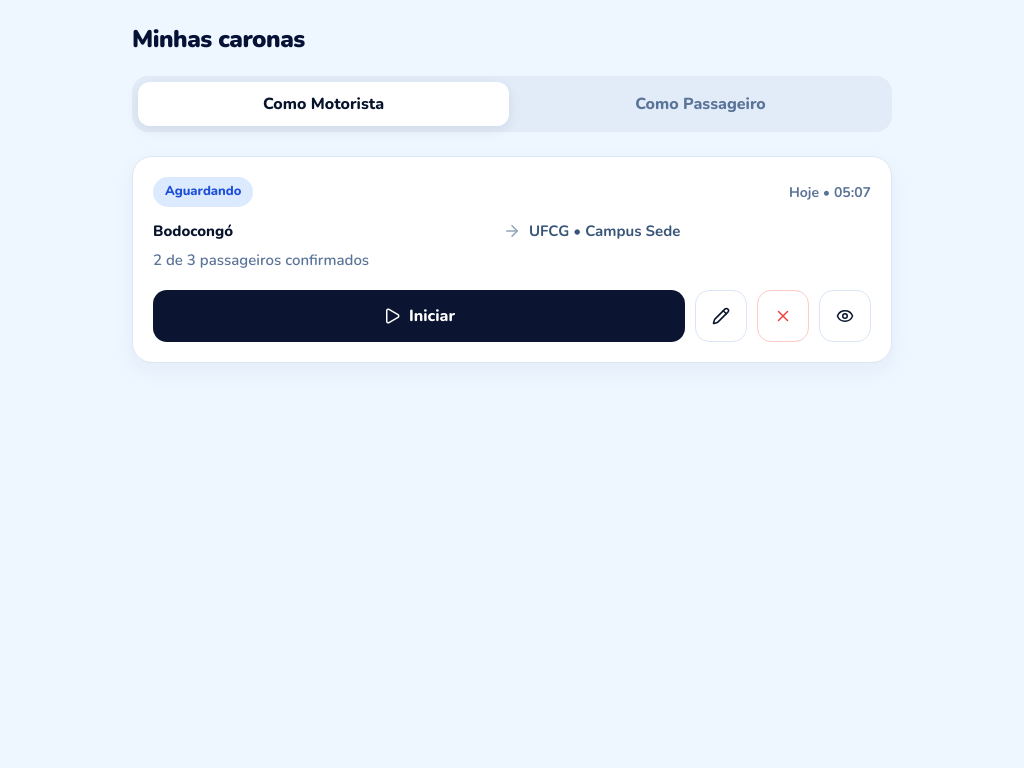
Test case: cancelamento › confirma o cancelamento, atualiza o status e exibe feedback de sucesso
This screenshot has width=1024, height=768.
Click the button named "cancelar carona" at (783, 316), box [757,290,809,342]
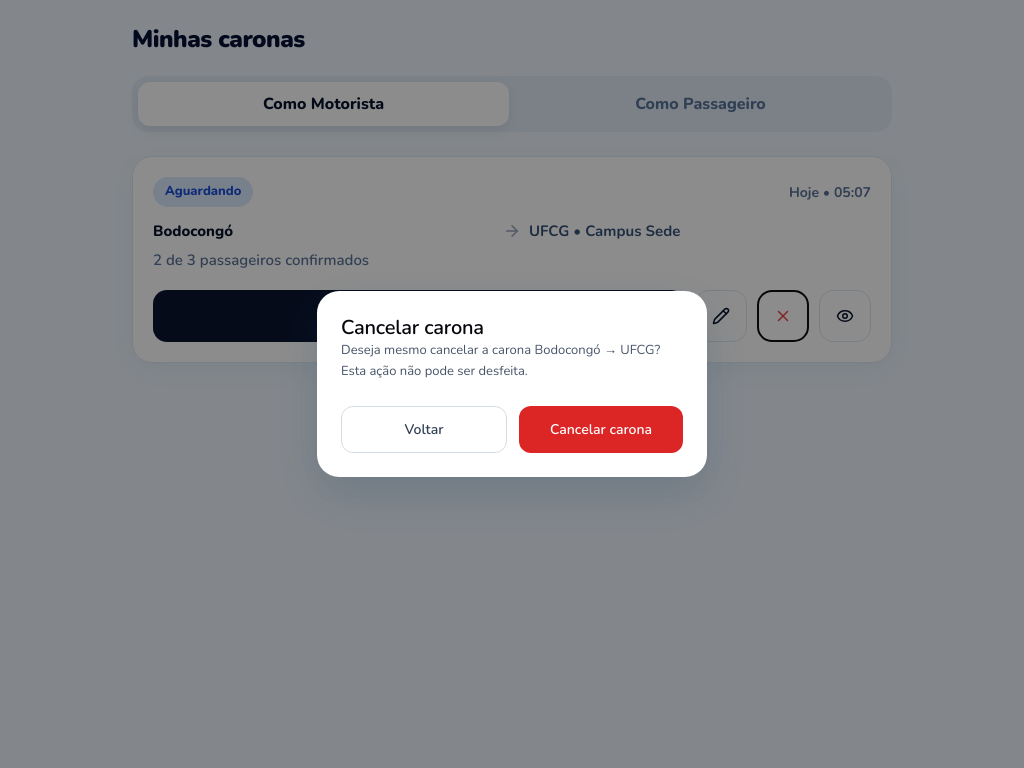
Click the button "Cancelar carona" at (601, 429), box [519,406,683,453]
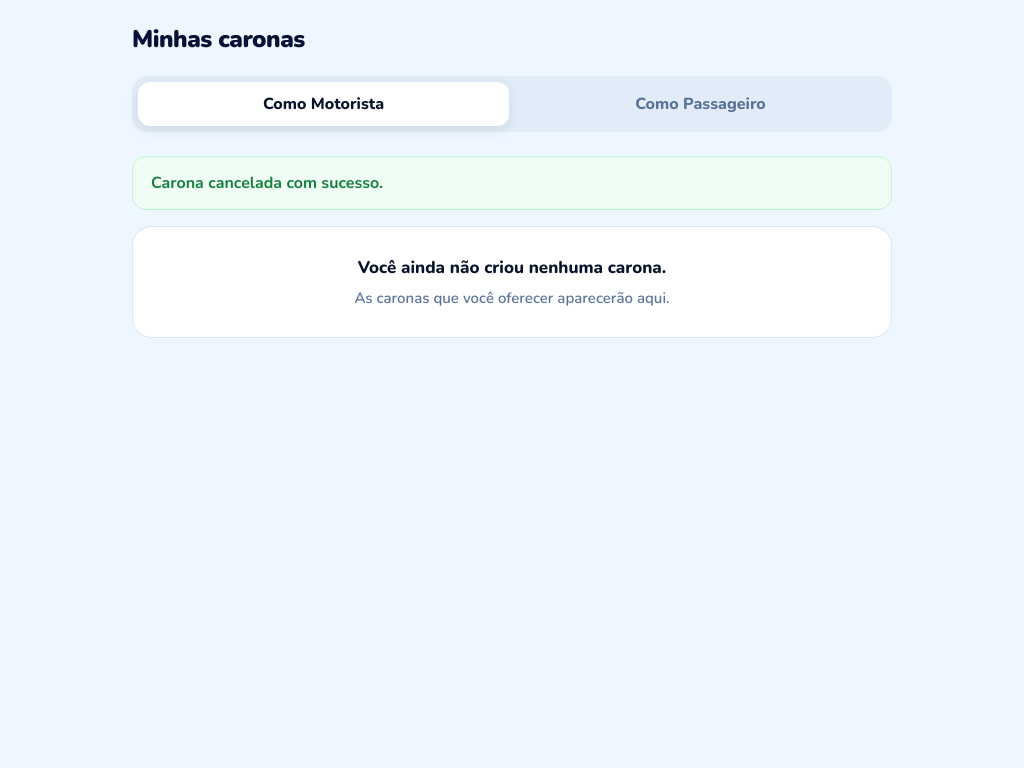
Expected: the text "Carona cancelada com sucesso." is shown, [132,156,892,210]
Expected: the text "Aguardando" is gone
Expected: the dialog is gone
